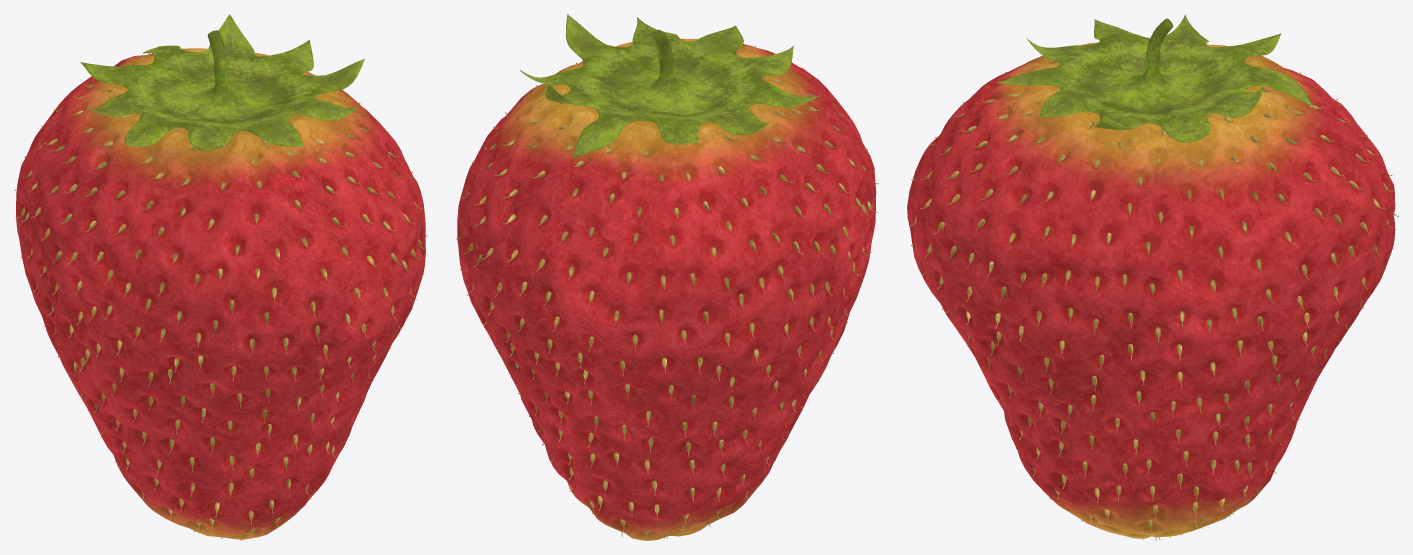
The model's file is strawberry-2.glb.
3 renders of one model, left to right at view 1: azimuth 30°, elevation 25°; view 2: azimuth 150°, elevation 25°; view 3: azimuth 270°, elevation 25°, orthographic. The views are drawn at different scales.
Parts seen in each view (by area): view 1: defaultMaterial; view 2: defaultMaterial; view 3: defaultMaterial.
Boxes of the visible parts, x1,y1,x2,y2 form: defaultMaterial: (14,14,427,540); defaultMaterial: (456,14,878,540); defaultMaterial: (907,14,1398,540).
Size of the model in its own units: 0.0945 by 0.1336 by 0.1149.
Materials: 1 (1 with a texture image).
